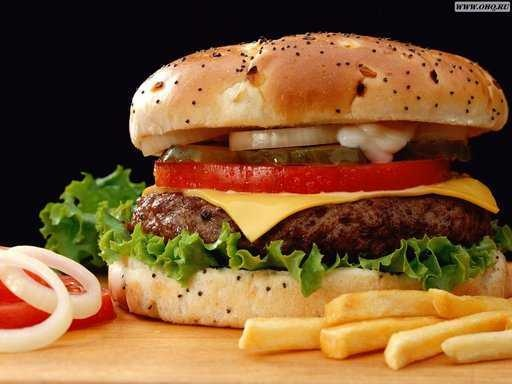hamburger: (102, 23, 503, 320)
